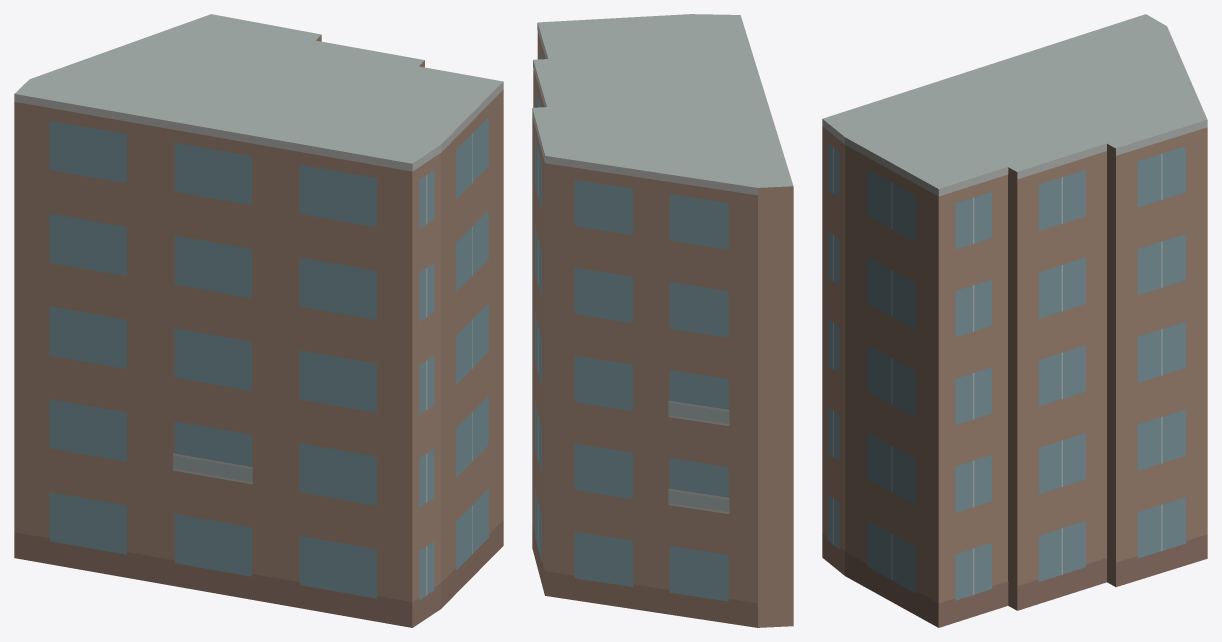
The model's file is survey-upis-32524400.glb.
3 renders of one model, left to right at view 1: azimuth 30°, elevation 25°; view 2: azimuth 150°, elevation 25°; view 3: azimuth 270°, elevation 25°, orthographic. The views are drawn at different scales.
Visible parts, largest first — view 1: survey-upis-32524400.tmp; view 2: survey-upis-32524400.tmp; view 3: survey-upis-32524400.tmp.
Boxes of the visible parts, <box> form: survey-upis-32524400.tmp: <box>14,14,503,627</box>; survey-upis-32524400.tmp: <box>532,14,793,627</box>; survey-upis-32524400.tmp: <box>822,14,1207,627</box>.
Size of the model in its own units: 12.38 by 14.45 by 11.51.
